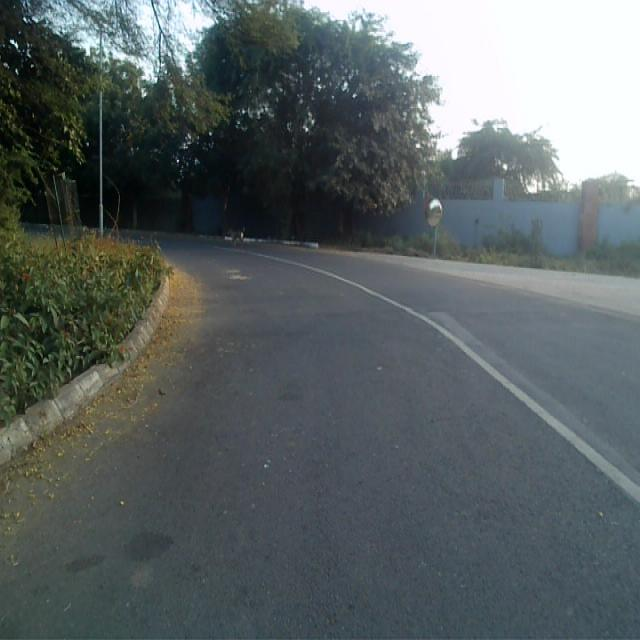lane: (0, 245, 640, 640)
